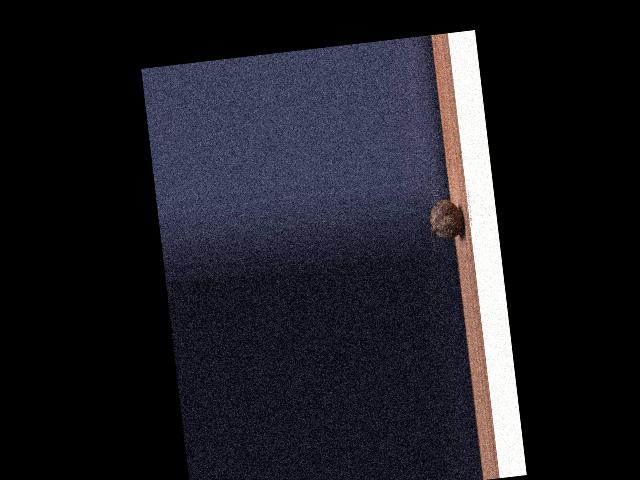beet: (427, 198, 466, 252)
